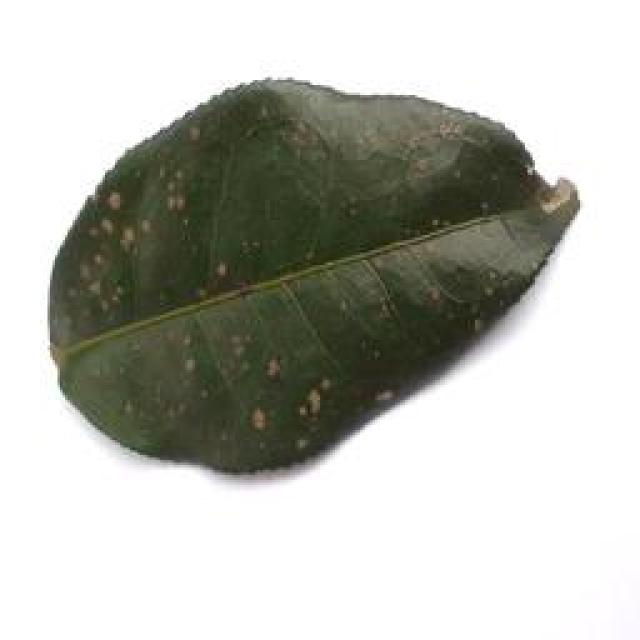Algal Leaf Spot: (41, 70, 584, 493)
